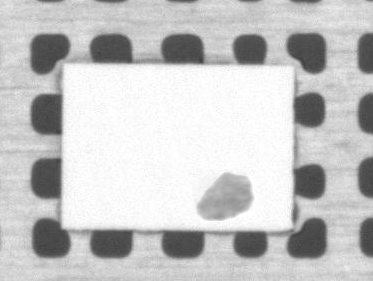DIE_INK: (197, 170, 253, 222)
